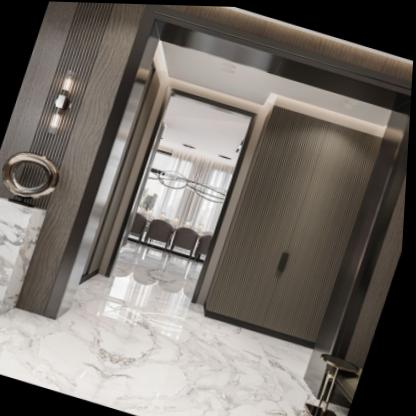Ceramic floor: (0, 276, 327, 416)
